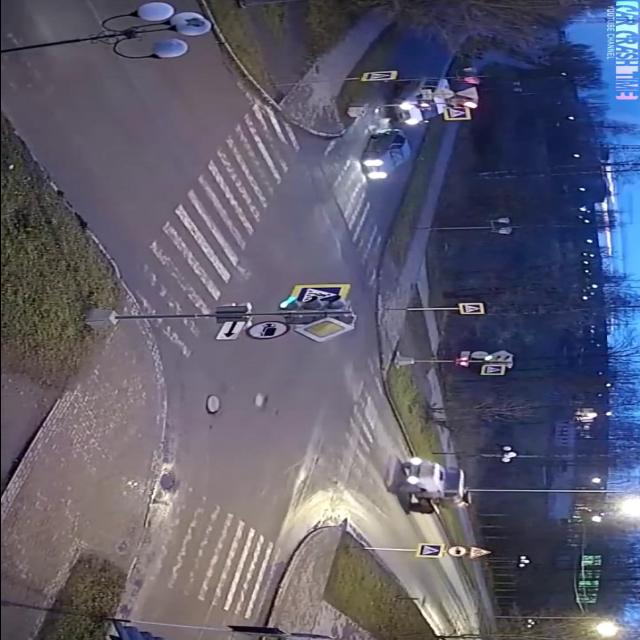non_accident: (351, 74, 461, 186)
